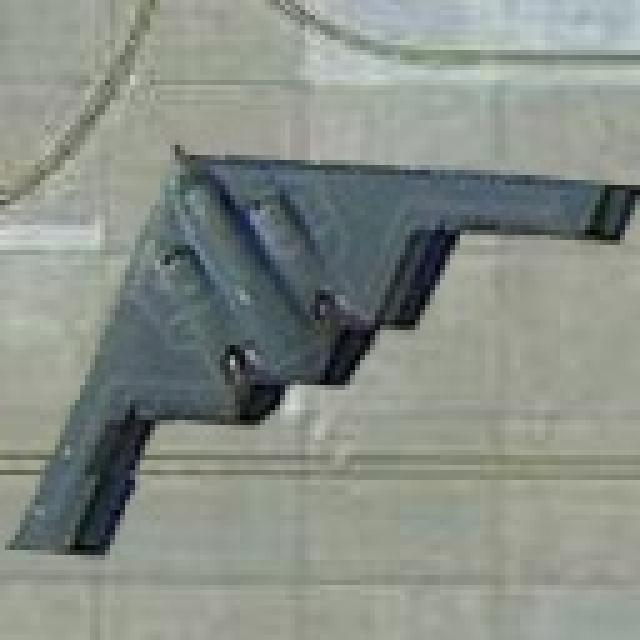B-2_TopDown: (0, 135, 635, 555)
